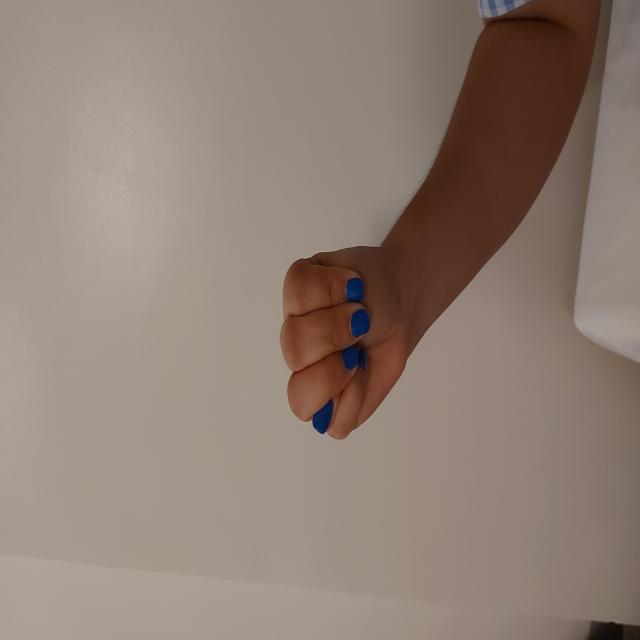M: (198, 278, 398, 408)
